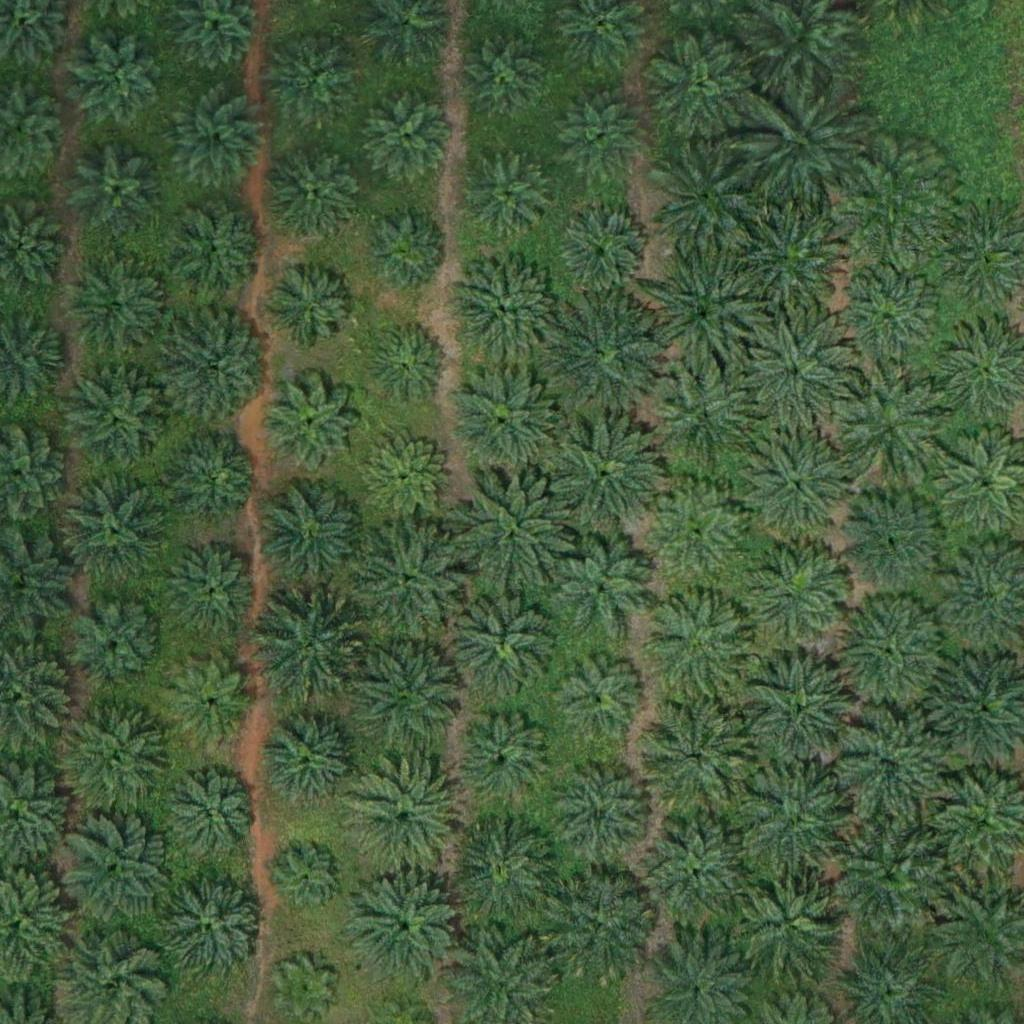Kelapa_Sawit: (837, 147, 950, 261), (749, 86, 862, 200), (60, 363, 173, 477), (160, 309, 273, 423), (257, 479, 370, 593), (249, 592, 362, 706), (255, 701, 368, 814), (347, 763, 460, 876), (446, 252, 559, 365), (447, 368, 560, 481), (550, 301, 663, 414), (548, 419, 661, 532), (644, 591, 757, 704), (636, 700, 749, 813), (729, 201, 842, 314), (832, 263, 945, 376), (836, 370, 949, 483), (833, 484, 946, 597), (741, 768, 854, 881), (732, 867, 845, 980), (641, 819, 754, 932), (349, 874, 462, 987), (355, 524, 467, 638), (352, 636, 464, 750), (449, 704, 561, 818), (543, 873, 655, 987), (446, 816, 558, 930), (645, 30, 757, 143), (652, 144, 764, 257), (162, 79, 274, 192), (59, 470, 171, 583), (56, 701, 168, 814), (456, 474, 568, 587), (450, 587, 562, 700), (647, 259, 759, 372), (649, 361, 761, 474), (738, 320, 850, 433), (739, 431, 851, 544), (744, 655, 856, 768), (832, 598, 944, 711), (833, 710, 945, 823), (835, 820, 947, 933), (158, 873, 270, 986), (58, 814, 170, 927), (263, 28, 363, 129), (264, 141, 364, 242), (67, 29, 167, 130), (65, 590, 165, 691), (549, 536, 649, 637), (645, 482, 745, 583), (745, 542, 845, 643), (68, 254, 168, 354), (162, 428, 262, 528), (162, 542, 262, 642), (259, 374, 359, 474), (552, 765, 652, 865), (555, 92, 643, 180), (560, 209, 648, 297), (457, 34, 545, 122), (167, 774, 255, 862), (266, 265, 354, 353), (364, 319, 452, 407), (361, 433, 449, 521), (464, 151, 551, 240), (364, 91, 451, 180), (72, 149, 159, 237), (172, 204, 259, 292), (167, 658, 254, 746), (362, 207, 449, 295), (558, 655, 645, 743), (278, 847, 341, 910), (273, 958, 336, 1021)
